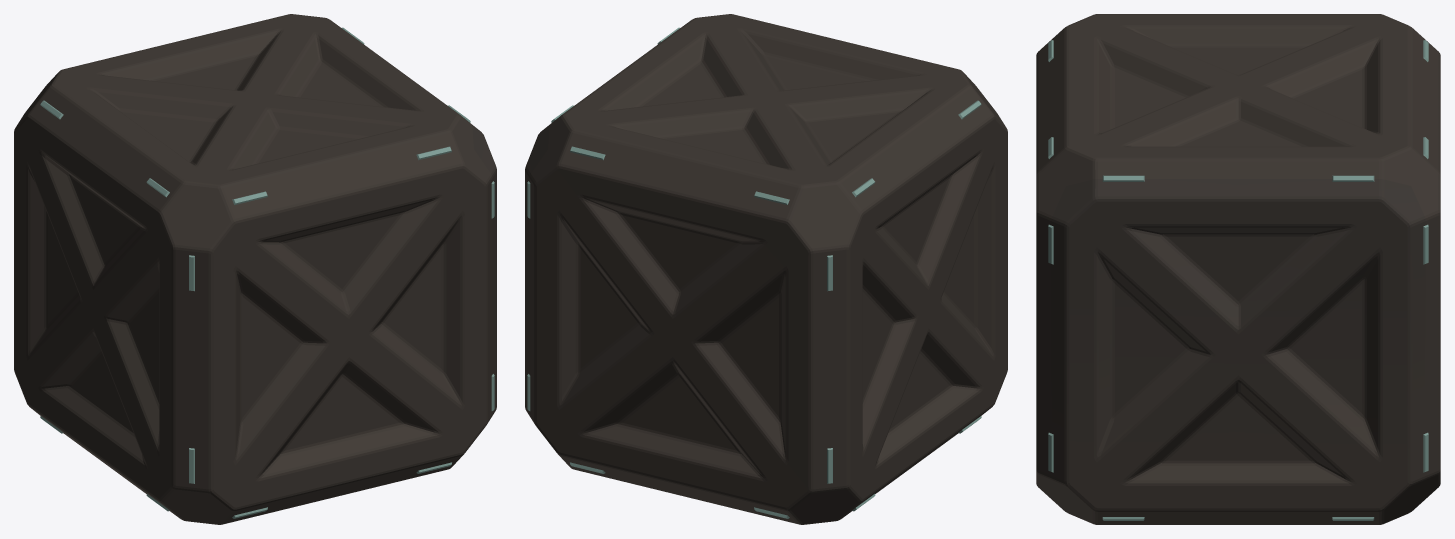
Rendered from Baule.fbx.
The picture shows the model from 3 angles, left to right: view 1: azimuth 30°, elevation 25°; view 2: azimuth 150°, elevation 25°; view 3: azimuth 270°, elevation 25°; orthographic projection. The views are drawn at different scales.
Visible parts, largest first — view 1: Baule; view 2: Baule; view 3: Baule.
Part boxes in pixels (<box>): Baule: <box>14,14,496,524</box>; Baule: <box>525,14,1007,524</box>; Baule: <box>1036,14,1440,524</box>.
Size of the model in its own units: 78.76 by 78.76 by 78.76.
